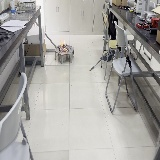fire: (60, 38, 67, 51)
